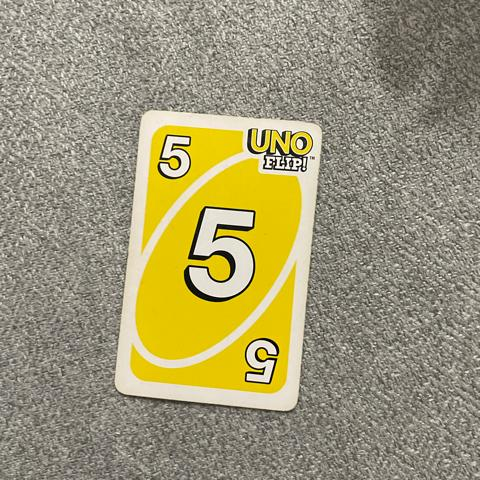lyellow-5: (146, 122, 204, 193)
